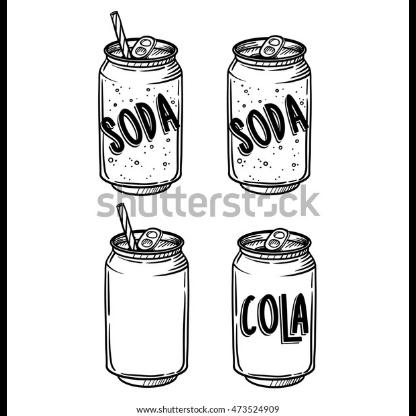Lid_Open: (240, 27, 290, 63), (124, 30, 158, 68), (122, 220, 168, 246), (261, 220, 291, 250)
Tin_Can: (217, 28, 327, 202), (92, 223, 198, 396), (226, 229, 322, 388), (98, 32, 184, 193)
